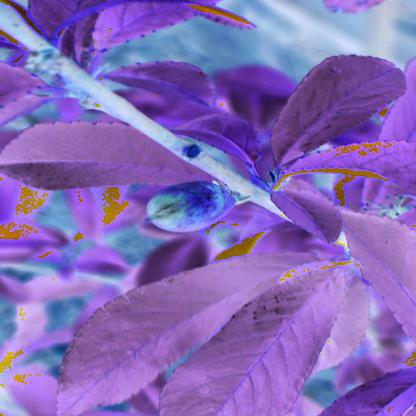peach leaf: (51, 247, 330, 416), (159, 267, 347, 416), (263, 50, 412, 176), (6, 123, 255, 198), (272, 141, 416, 185), (267, 186, 337, 247)
